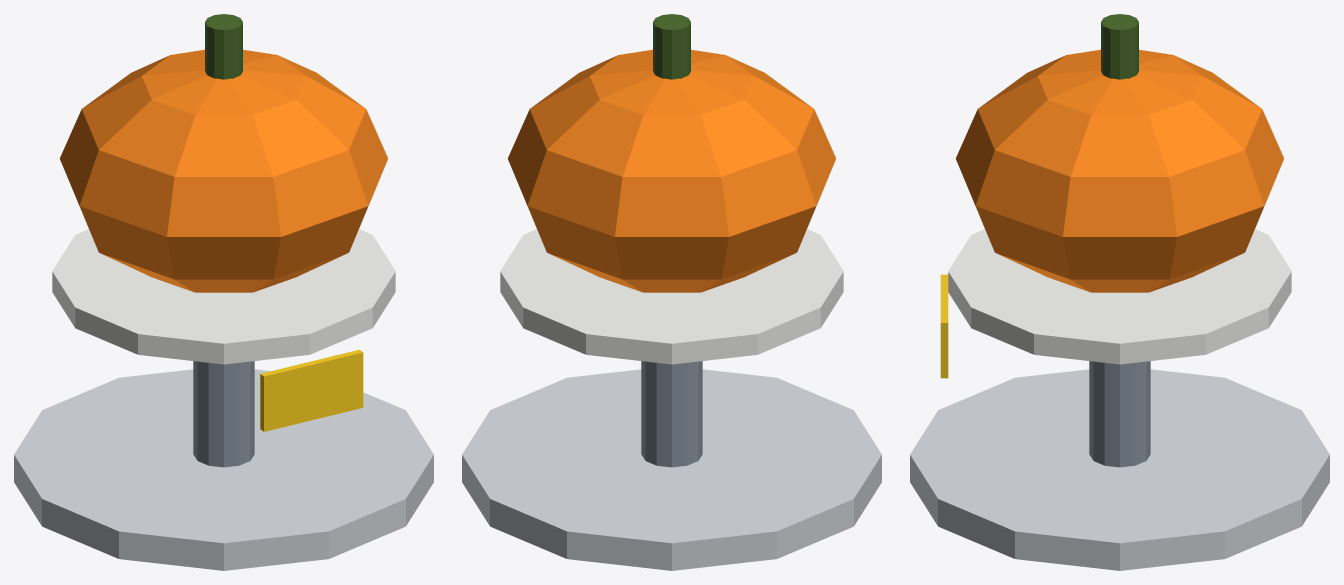
Rendered from item-pumpkin.glb.
3 renders of one model, left to right at view 1: azimuth 30°, elevation 25°; view 2: azimuth 150°, elevation 25°; view 3: azimuth 270°, elevation 25°, orthographic.
Parts seen in each view (by area): view 1: item-pumpkin; view 2: item-pumpkin; view 3: item-pumpkin.
Part boxes in pixels (<box>): item-pumpkin: <box>14,14,433,570</box>; item-pumpkin: <box>462,14,881,570</box>; item-pumpkin: <box>910,14,1329,570</box>.
Bounding box in the file's own units: 1.1 × 1.33 × 1.1.
